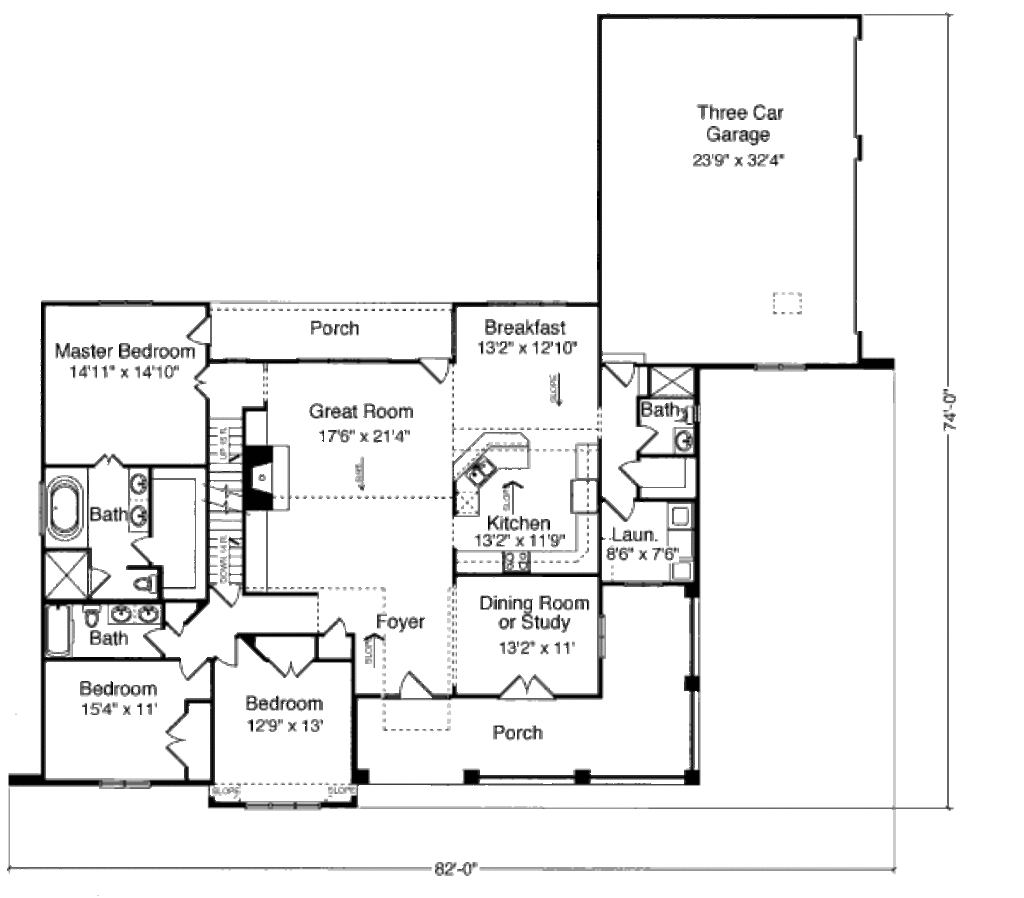door: (162, 699, 192, 769), (392, 660, 434, 706), (495, 671, 556, 702), (182, 311, 226, 351), (215, 635, 256, 672), (618, 457, 652, 499), (416, 353, 456, 385), (596, 357, 637, 387), (600, 494, 639, 525), (191, 358, 219, 401), (316, 618, 356, 647), (204, 587, 248, 613), (267, 658, 310, 680), (142, 625, 171, 657), (169, 659, 208, 682), (635, 424, 663, 454), (133, 533, 156, 565), (85, 452, 130, 468)
large_sink: (666, 406, 717, 432)
small_sink: (128, 474, 154, 531), (671, 433, 700, 453)
stairs: (203, 417, 258, 577)
tub: (43, 463, 91, 555)
twin_sink: (457, 453, 501, 489)
window: (239, 797, 324, 814), (87, 771, 151, 792)
